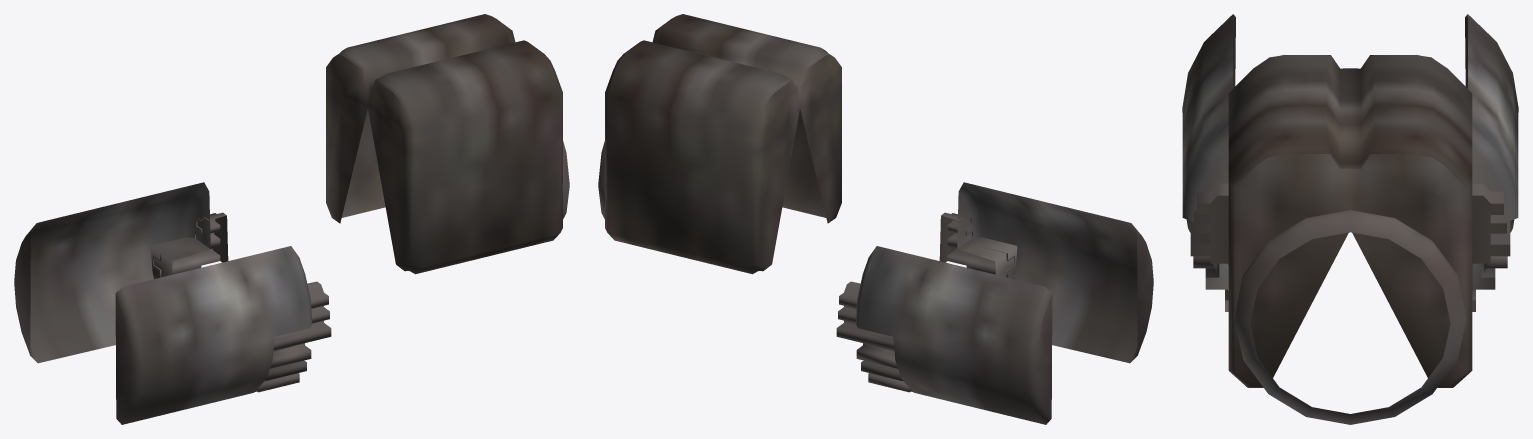
File: HeavyWeapons_Vladof_Barrel_Vred_Acc_3.obj
3 views of the same model, side by side, from view 1: azimuth 30°, elevation 25°; view 2: azimuth 150°, elevation 25°; view 3: azimuth 270°, elevation 25° (orthographic). The views are drawn at different scales.
Parts seen in each view (by area): view 1: SK_HW_VLA.147, SK_HW_VLA.149, SK_HW_VLA.148, SK_HW_VLA.151, SK_HW_VLA.150; view 2: SK_HW_VLA.147, SK_HW_VLA.148, SK_HW_VLA.149, SK_HW_VLA.150, SK_HW_VLA.151; view 3: SK_HW_VLA.147, SK_HW_VLA.152, SK_HW_VLA.148, SK_HW_VLA.149, SK_HW_VLA.150, SK_HW_VLA.151.
Part boxes in pixels (left/top/right/bottom): SK_HW_VLA.147: left=326, top=14, right=562, bottom=274; SK_HW_VLA.149: left=115, top=246, right=312, bottom=424; SK_HW_VLA.148: left=14, top=182, right=210, bottom=363; SK_HW_VLA.151: left=255, top=281, right=331, bottom=392; SK_HW_VLA.150: left=153, top=212, right=228, bottom=278; SK_HW_VLA.147: left=605, top=14, right=841, bottom=274; SK_HW_VLA.148: left=855, top=246, right=1052, bottom=424; SK_HW_VLA.149: left=957, top=182, right=1153, bottom=363; SK_HW_VLA.150: left=836, top=281, right=912, bottom=392; SK_HW_VLA.151: left=939, top=212, right=1014, bottom=278; SK_HW_VLA.147: left=1228, top=55, right=1472, bottom=387; SK_HW_VLA.152: left=1234, top=210, right=1466, bottom=424; SK_HW_VLA.148: left=1465, top=14, right=1518, bottom=264; SK_HW_VLA.149: left=1182, top=14, right=1235, bottom=264; SK_HW_VLA.150: left=1472, top=183, right=1510, bottom=311; SK_HW_VLA.151: left=1190, top=183, right=1228, bottom=311.
Size of the model in its own units: 21.59 by 11.52 by 10.12.
